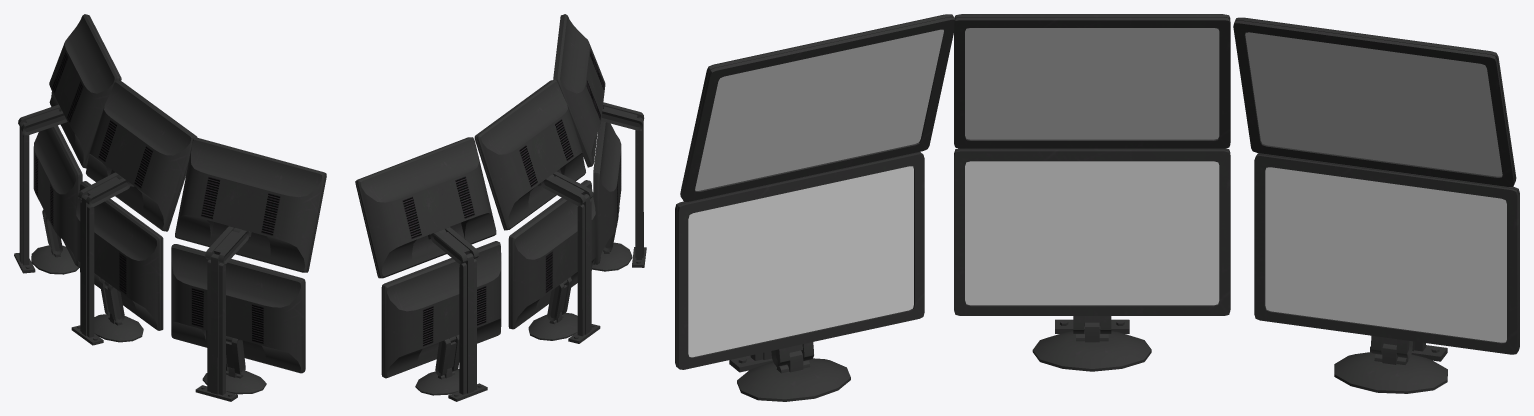
The model's file is GOInc_Monitors.fbx.
3 renders of one model, left to right at view 1: azimuth 30°, elevation 25°; view 2: azimuth 150°, elevation 25°; view 3: azimuth 270°, elevation 25°, orthographic. The views are drawn at different scales.
Parts seen in each view (by area): view 1: SM_SecurityMonitor3.mo.006, SM_SecurityMonitor3.mo.007, SM_SecurityMonitor3.mo.008; view 2: SM_SecurityMonitor3.mo.008, SM_SecurityMonitor3.mo.007, SM_SecurityMonitor3.mo.006; view 3: SM_SecurityMonitor3.mo.007, SM_SecurityMonitor3.mo.008, SM_SecurityMonitor3.mo.006.
Part boxes in pixels (x1=…): SM_SecurityMonitor3.mo.006: x1=171, y1=138, x2=326, y2=401; SM_SecurityMonitor3.mo.007: x1=71, y1=80, x2=197, y2=345; SM_SecurityMonitor3.mo.008: x1=14, y1=14, x2=121, y2=274; SM_SecurityMonitor3.mo.008: x1=355, y1=137, x2=501, y2=401; SM_SecurityMonitor3.mo.007: x1=474, y1=79, x2=600, y2=343; SM_SecurityMonitor3.mo.006: x1=553, y1=14, x2=646, y2=271; SM_SecurityMonitor3.mo.007: x1=954, y1=14, x2=1230, y2=371; SM_SecurityMonitor3.mo.008: x1=1233, y1=17, x2=1519, y2=393; SM_SecurityMonitor3.mo.006: x1=675, y1=14, x2=954, y2=401.
Bounding box in the file's own units: 58.55 × 86.7 × 178.
